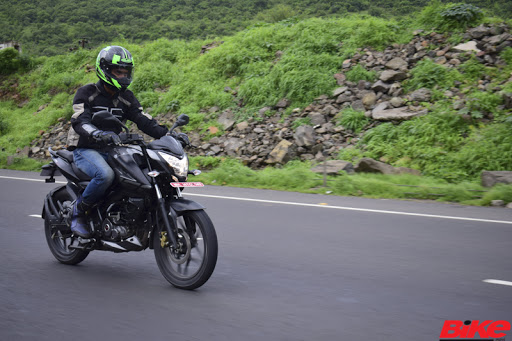bike: (37, 45, 224, 290)
